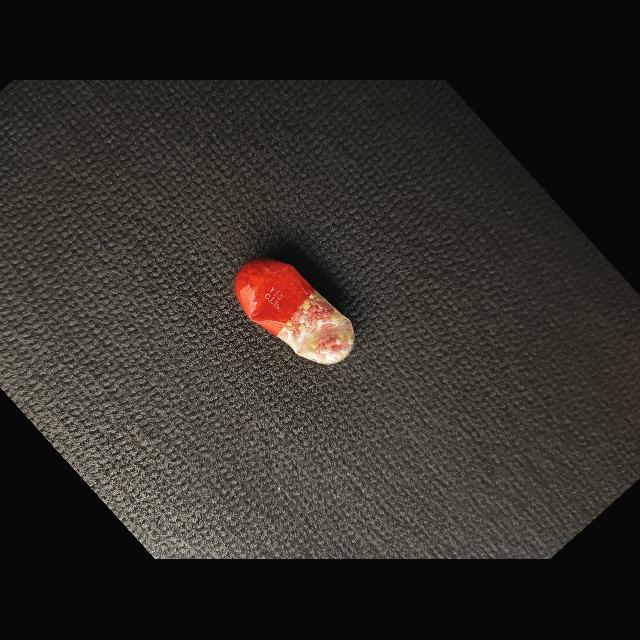Defective Capsule: (234, 258, 354, 366)
